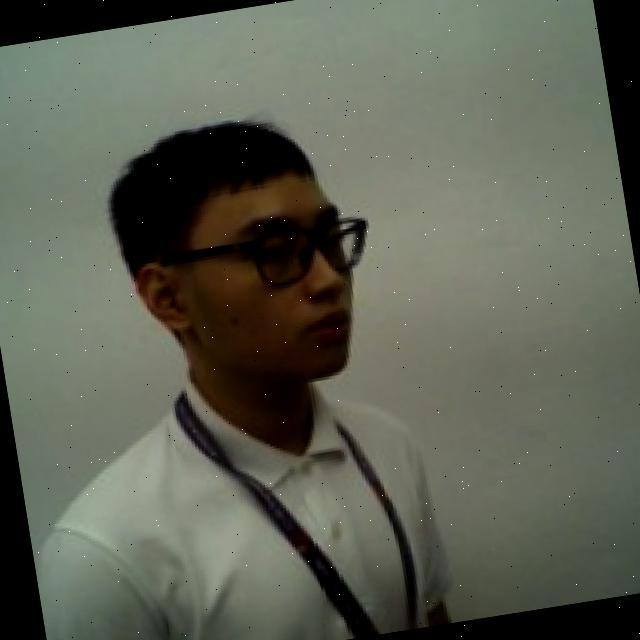no_gloves: (100, 102, 344, 267)
no_hairnet: (134, 233, 373, 418)
